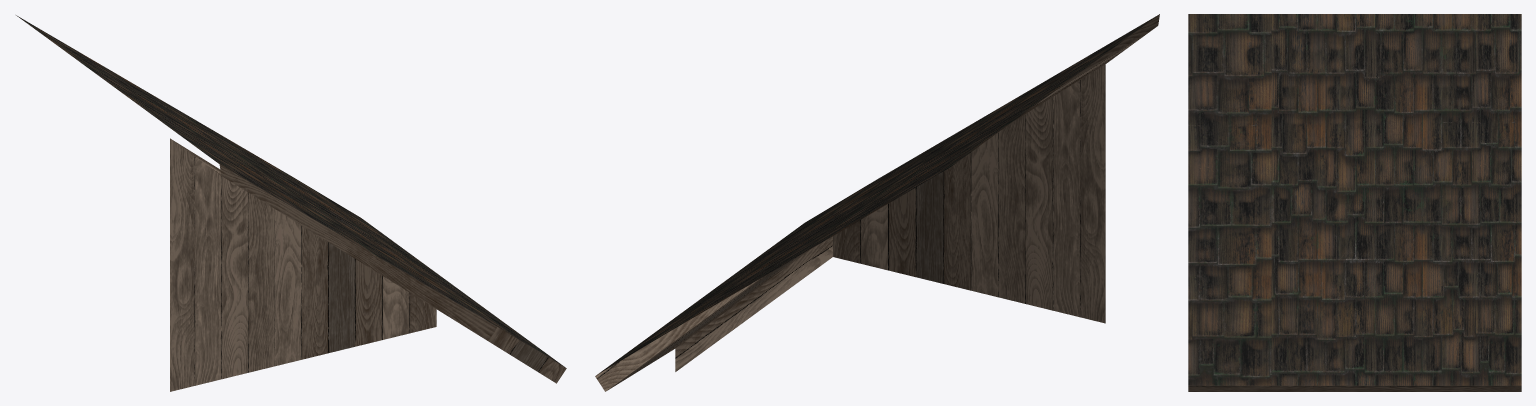
Rendered from SM_RoofCorner.fbx.
The picture shows the model from 3 angles, left to right: view 1: azimuth 30°, elevation 25°; view 2: azimuth 150°, elevation 25°; view 3: azimuth 270°, elevation 25°; orthographic projection. The views are drawn at different scales.
Parts seen in each view (by area): view 1: SM_Roof_Corner; view 2: SM_Roof_Corner; view 3: SM_Roof_Corner.
Part boxes in pixels (<box>): SM_Roof_Corner: <box>16,15,566,391</box>; SM_Roof_Corner: <box>595,14,1159,391</box>; SM_Roof_Corner: <box>1188,14,1521,391</box>.
Size of the model in its own units: 390 by 324 by 400.
